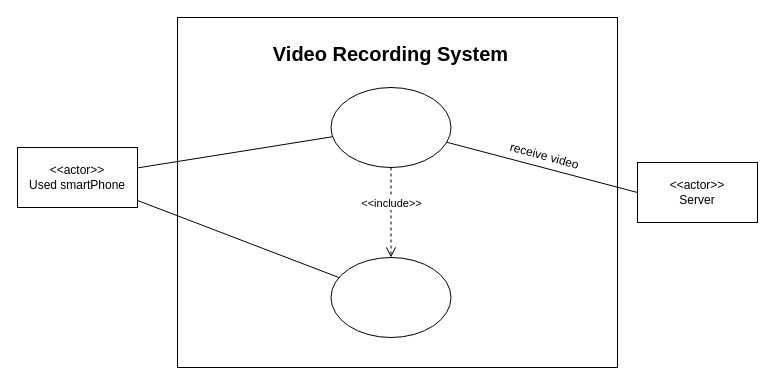
Some shapes in this 775 by 385 pixel diagram are drawn without their labels. The shapes that lost their labels are listed below. From the top down, each one's centre as x and y in pixels, then its label:
the point at 390,127: Transmit video
the point at 390,297: Record Video
